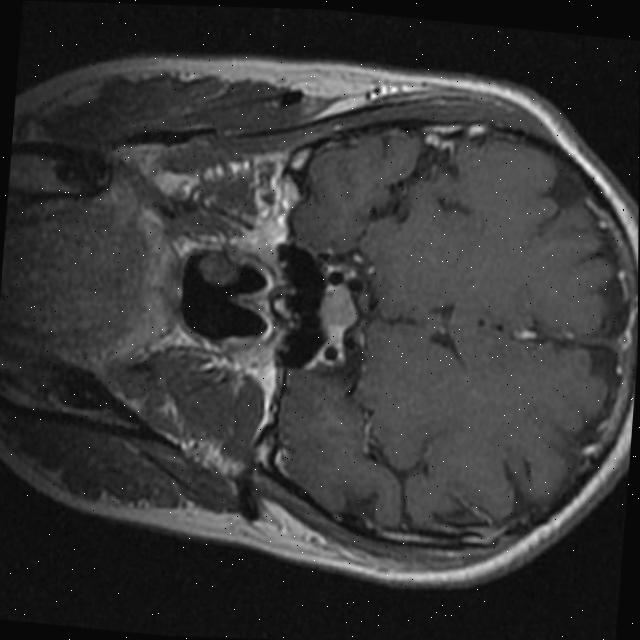Pituitary: (316, 283, 360, 340)
